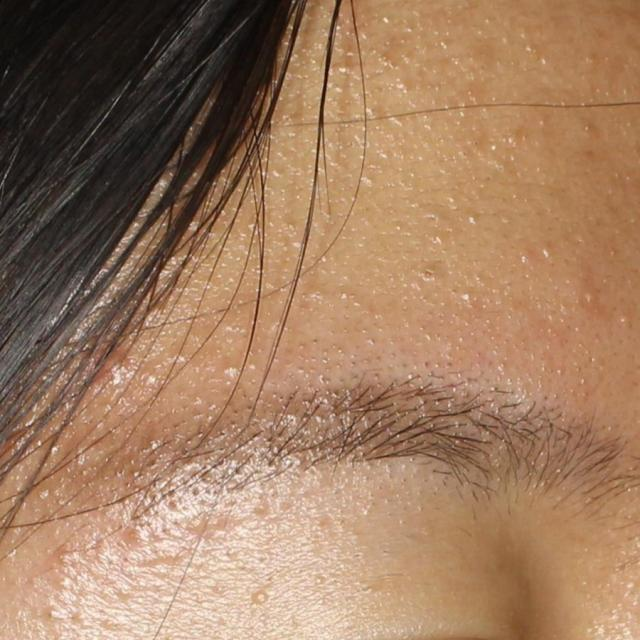blackhead: (425, 271, 431, 279)
